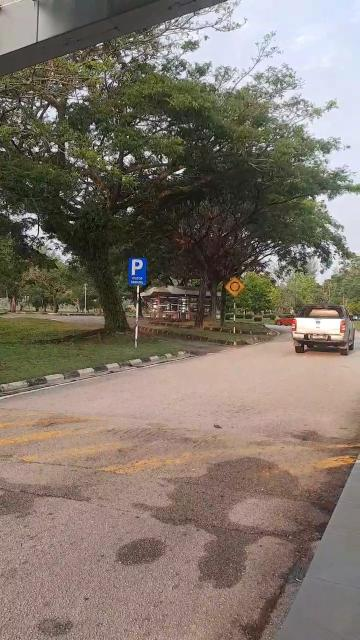car: (286, 293, 360, 359)
